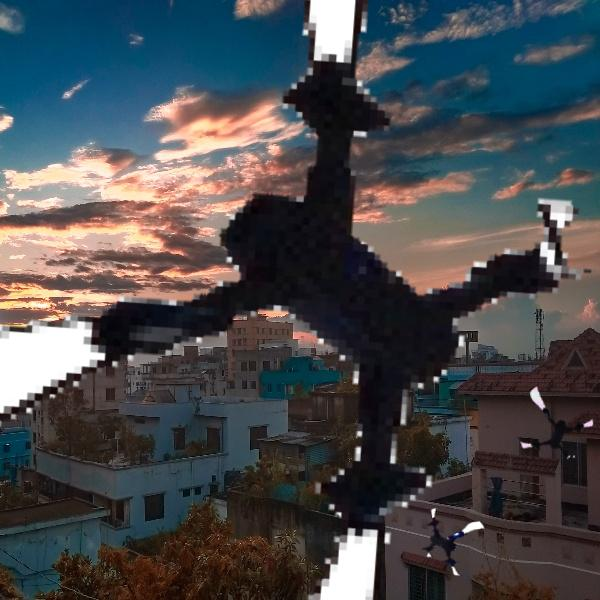drone: (511, 380, 600, 469), (419, 504, 497, 582)
